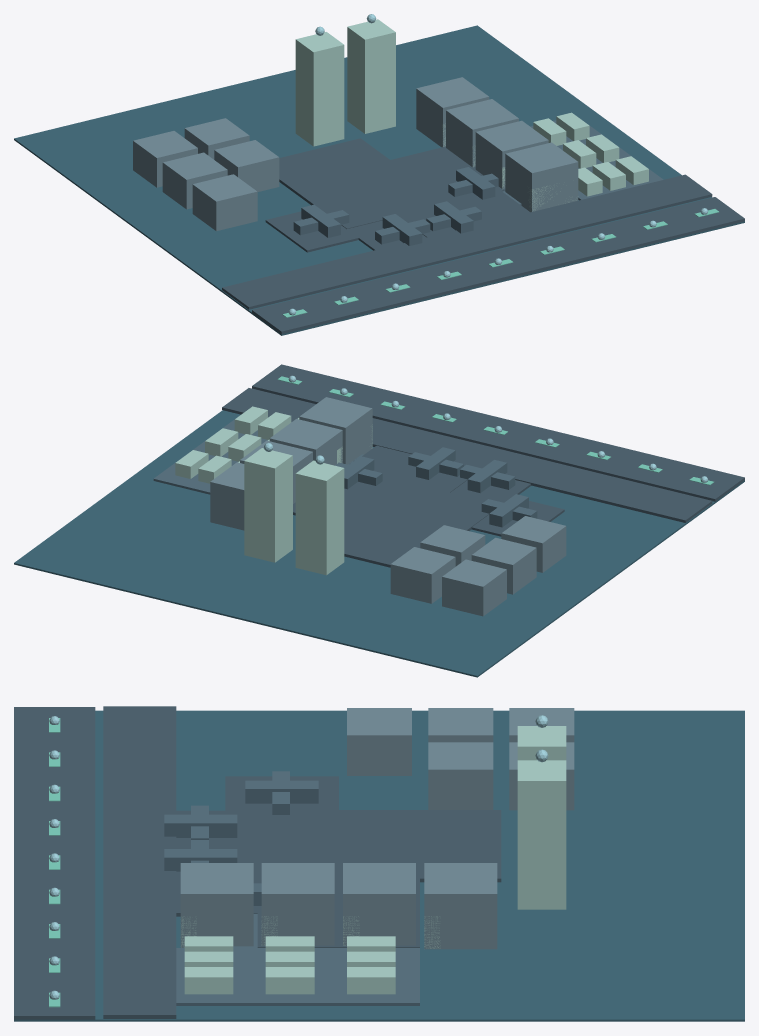
File: stage_25.glb
The picture shows the model from 3 angles, top to bottom: view 1: azimuth 30°, elevation 25°; view 2: azimuth 150°, elevation 25°; view 3: azimuth 270°, elevation 25°; orthographic projection. The views are drawn at different scales.
Visible parts, largest first — view 1: geometry_0; view 2: geometry_0; view 3: geometry_0.
Boxes of the visible parts, left/top/right/bottom form: geometry_0: left=14, top=14, right=744, bottom=335; geometry_0: left=14, top=364, right=744, bottom=677; geometry_0: left=14, top=706, right=744, bottom=1021.
Bounding box in the file's own units: 9 × 2.06 × 9.
